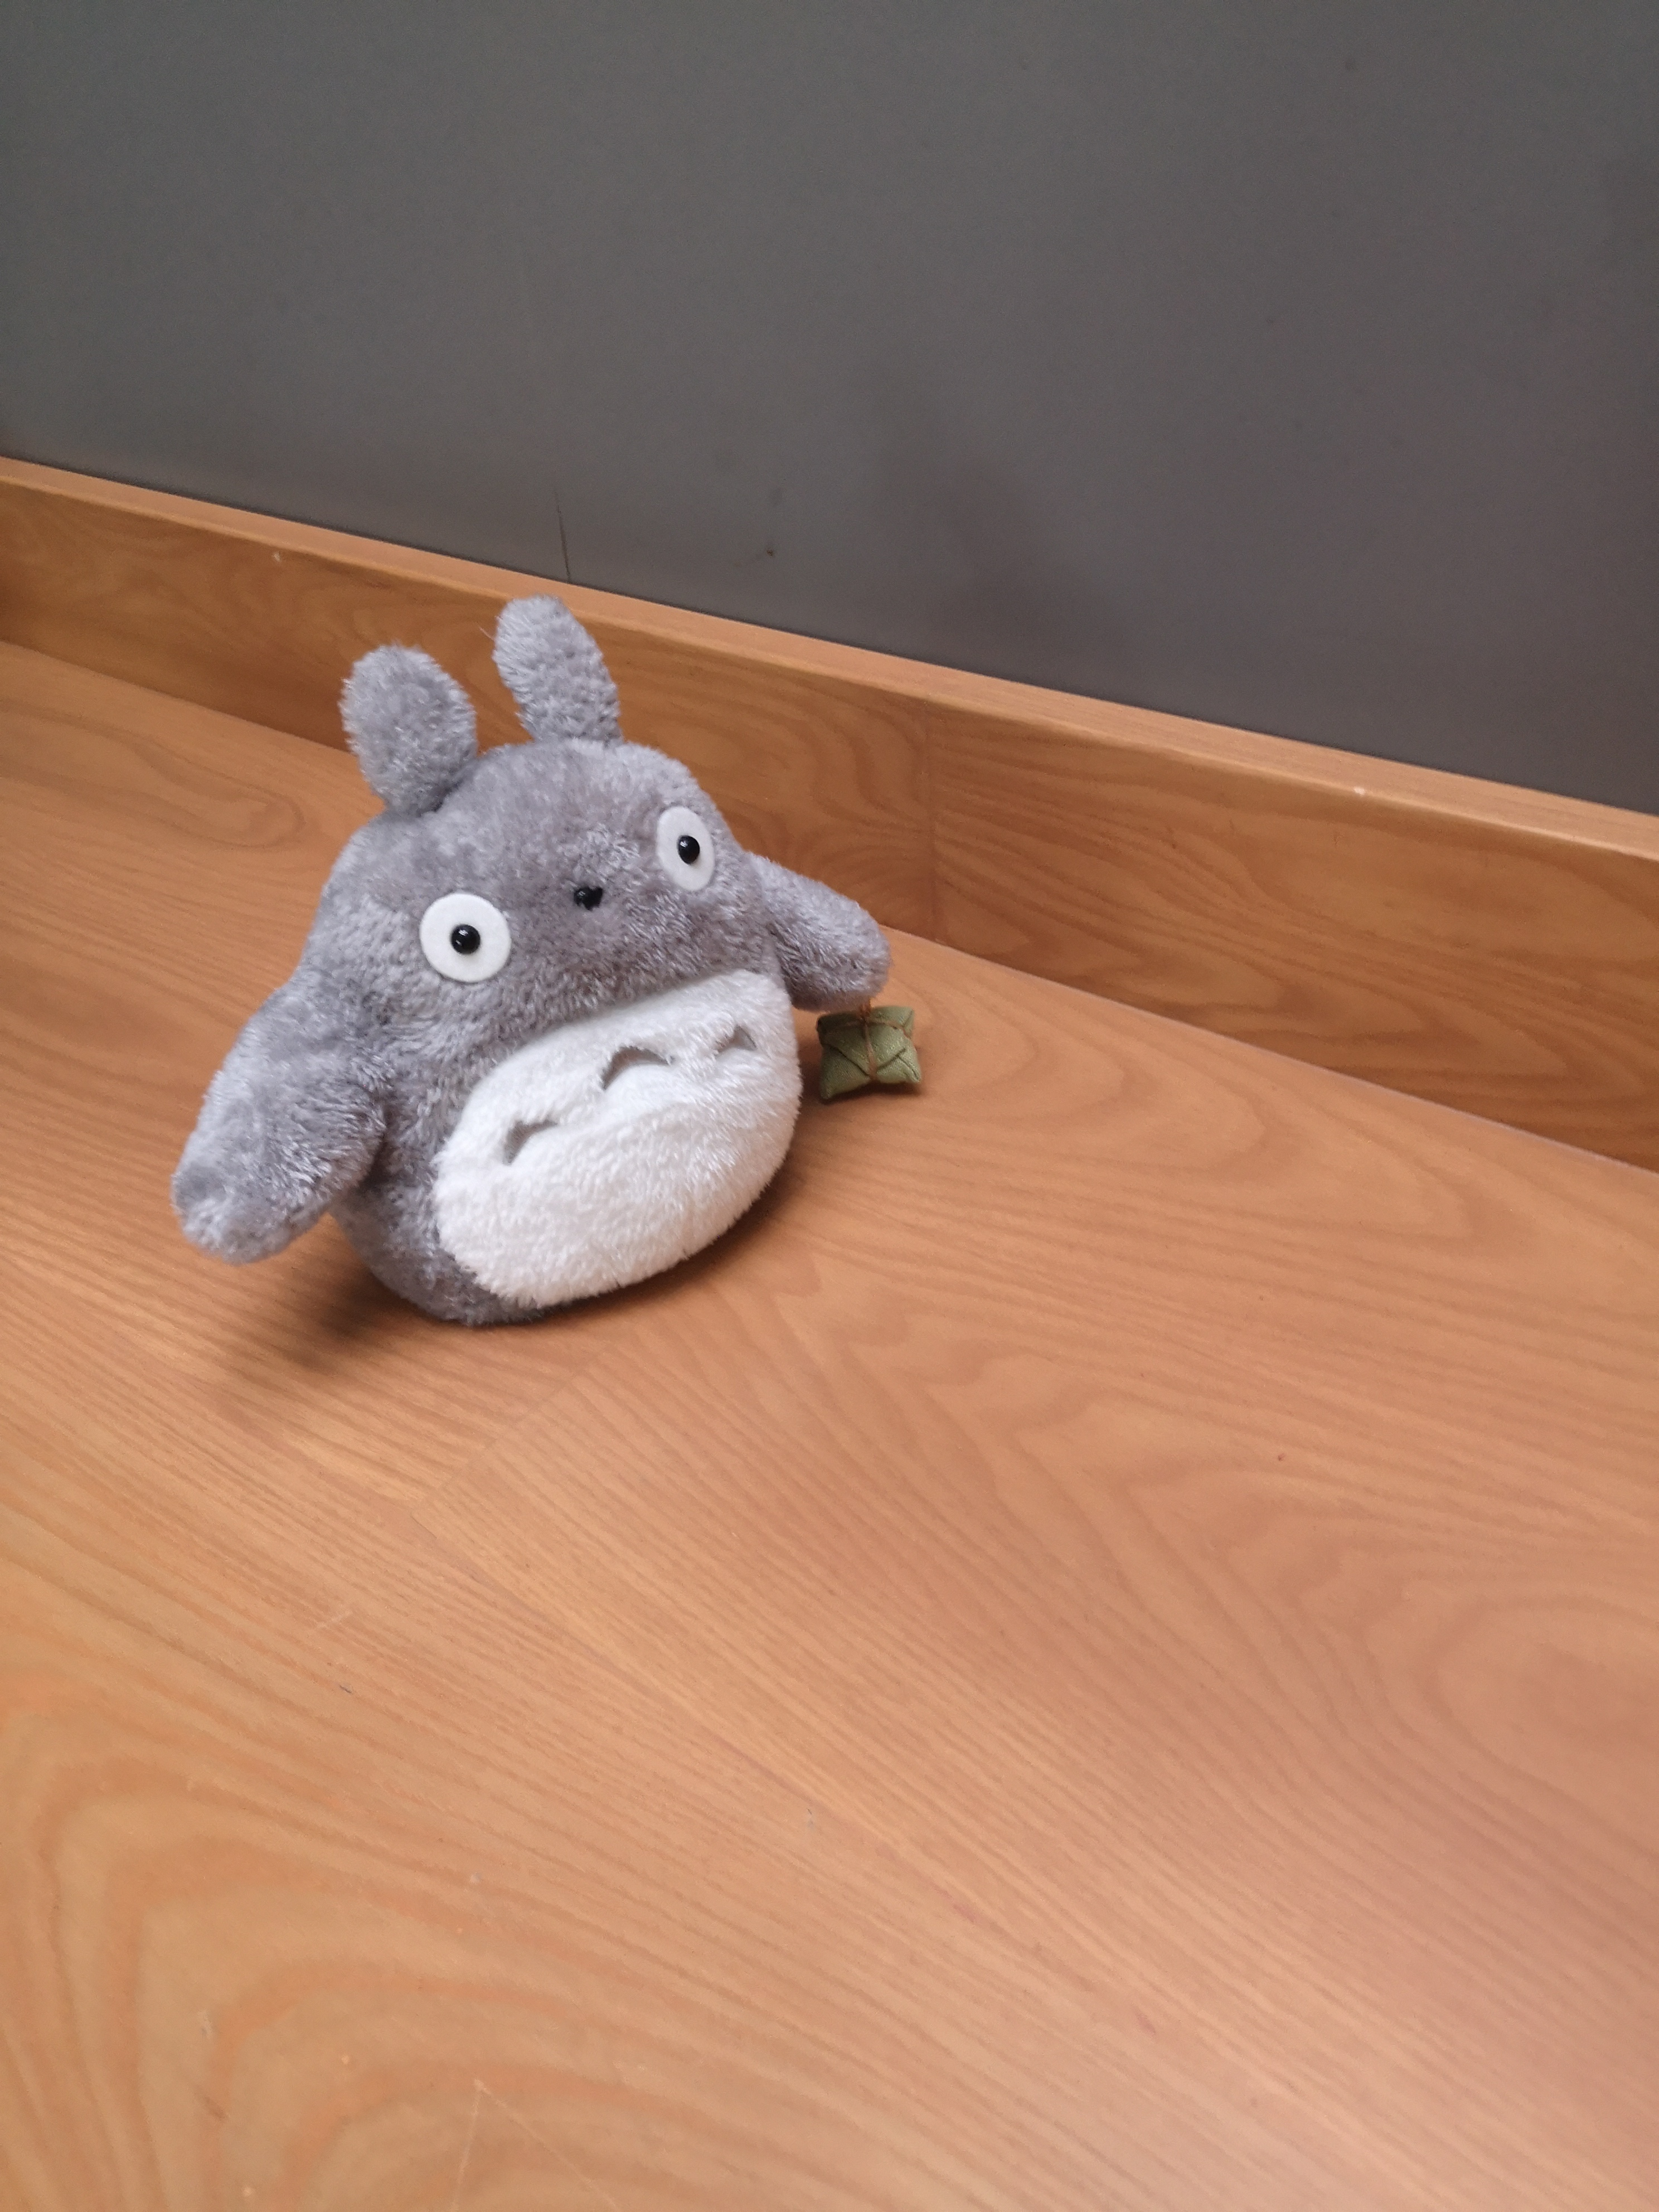totoro: (160, 582, 934, 1357)
